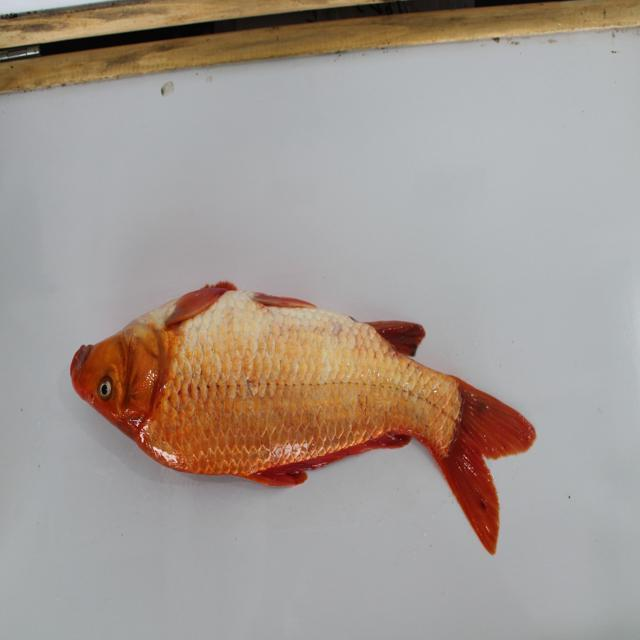Gold-Fish: (39, 222, 544, 563)
